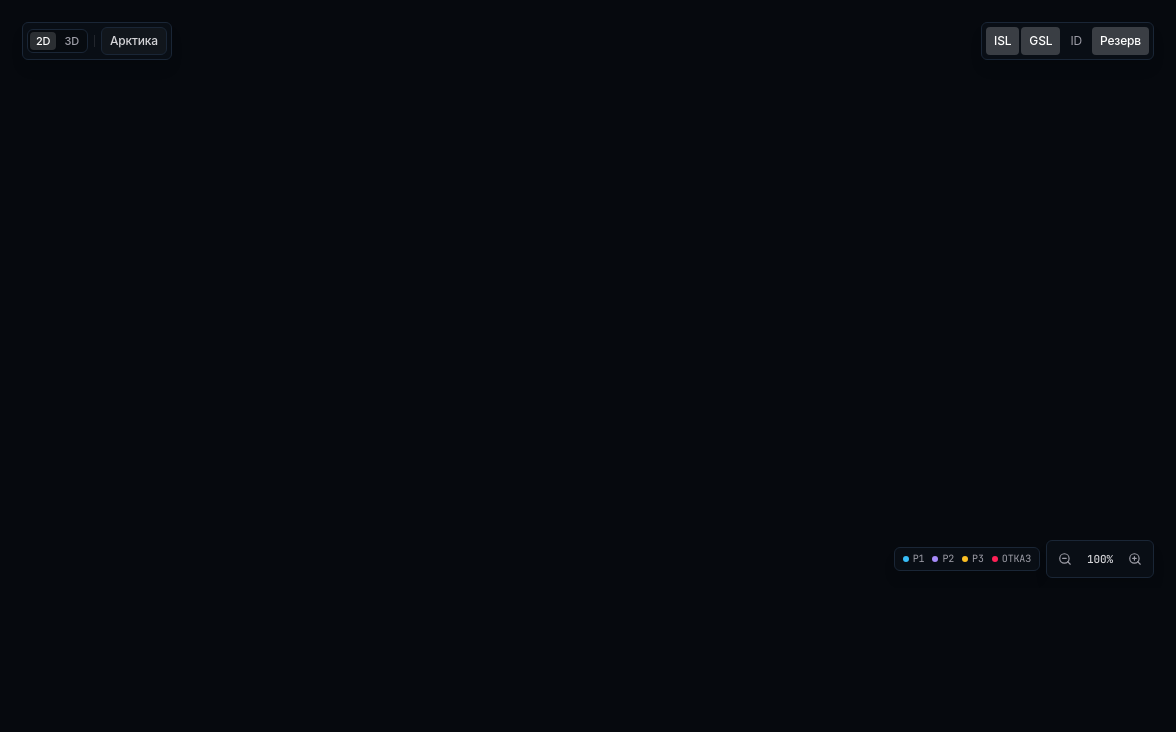
NetworkMap Component › handles zoom in, zoom out, and reset view controls
Expected: the button "100%" is shown, [1081, 550, 1119, 568]
Zoom in to 115%
Step 1. Click the button titled "Приблизить карту" → (1135, 559), box [1121, 545, 1149, 573]
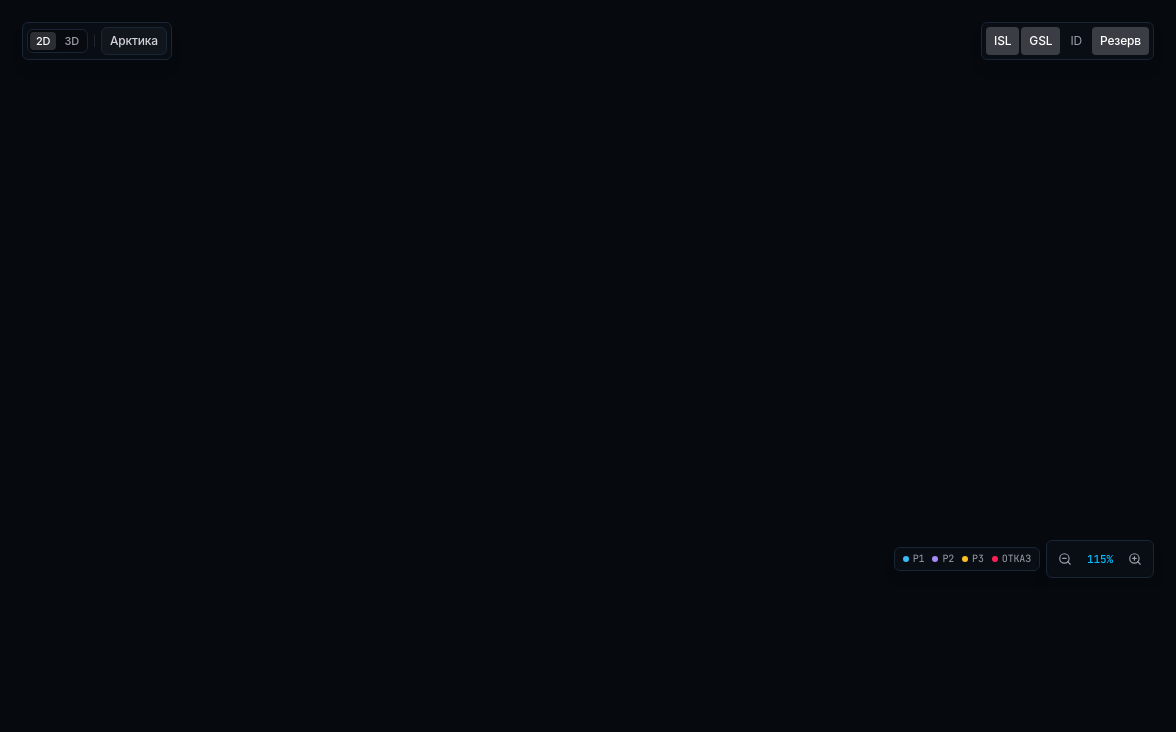
Result: the button "115%" is shown at [1081, 550, 1119, 568]
Zoom out back to 100%
Step 2. Click the button titled "Отдалить карту" → (1065, 559), box [1051, 545, 1079, 573]
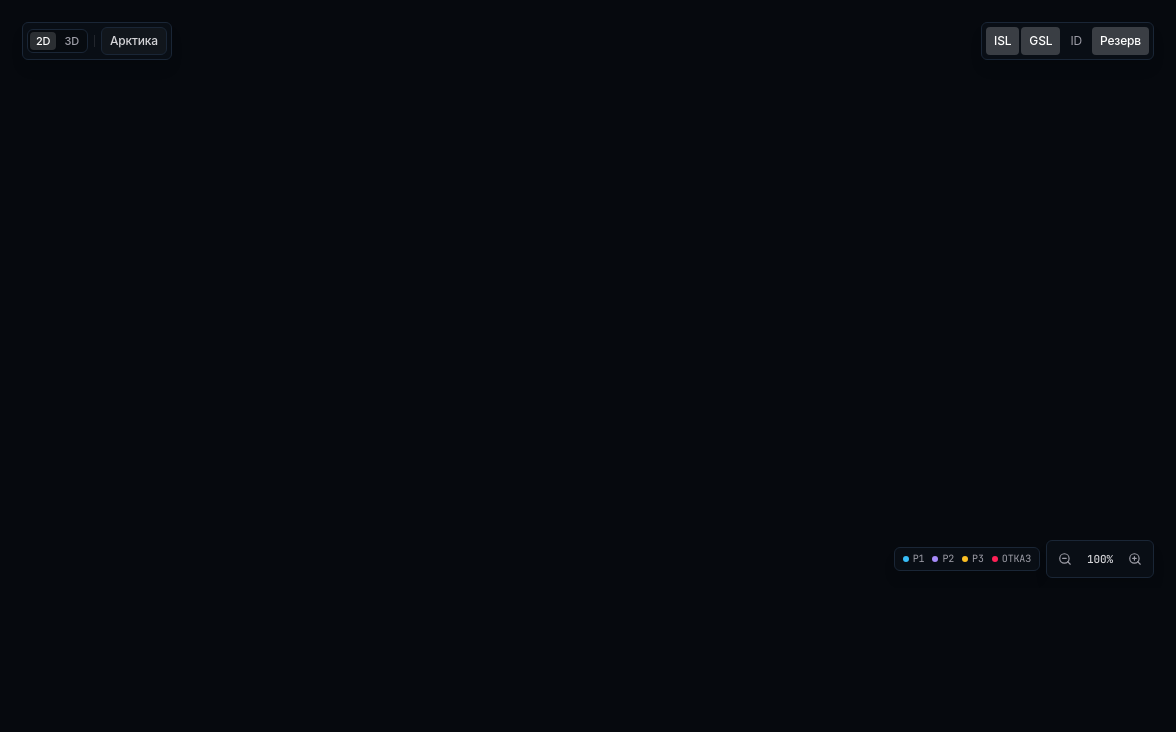
Expected: the button "100%" is shown, [1081, 550, 1119, 568]
Zoom in then reset
Step 3. Click the button titled "Приблизить карту" → (1135, 559), box [1121, 545, 1149, 573]
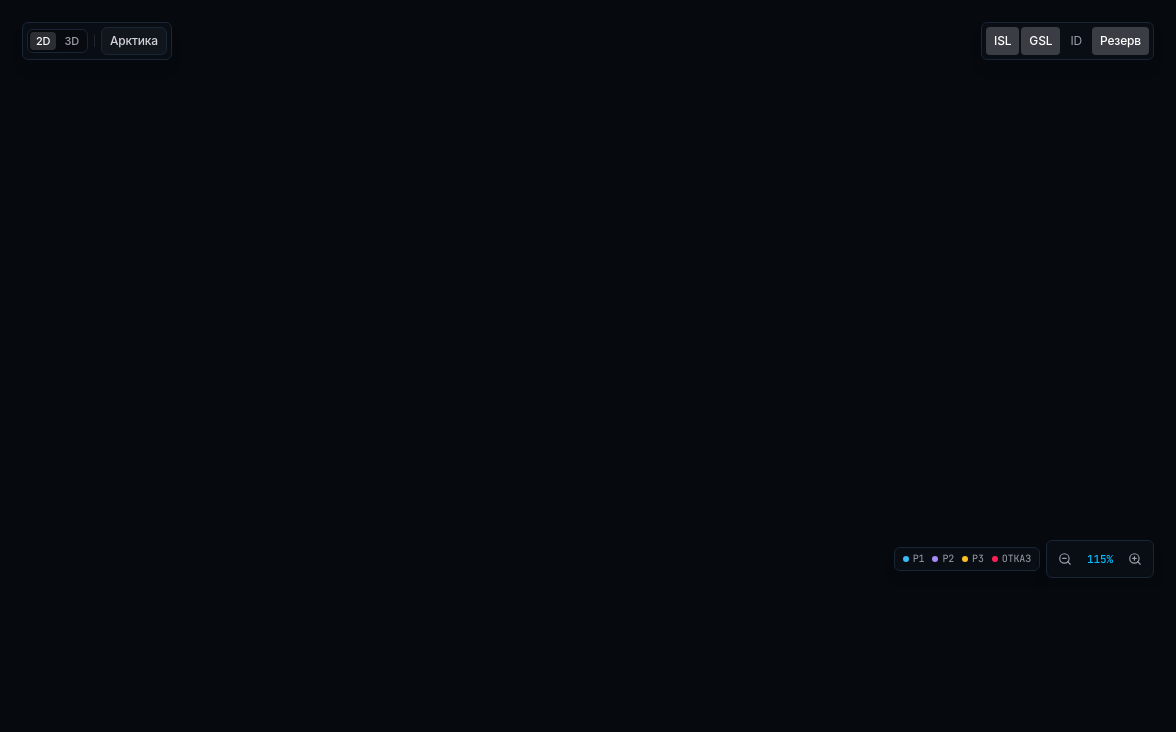
Result: the button "115%" is shown
Step 4. Click the button "115%" → (1100, 559), box [1081, 550, 1119, 568]
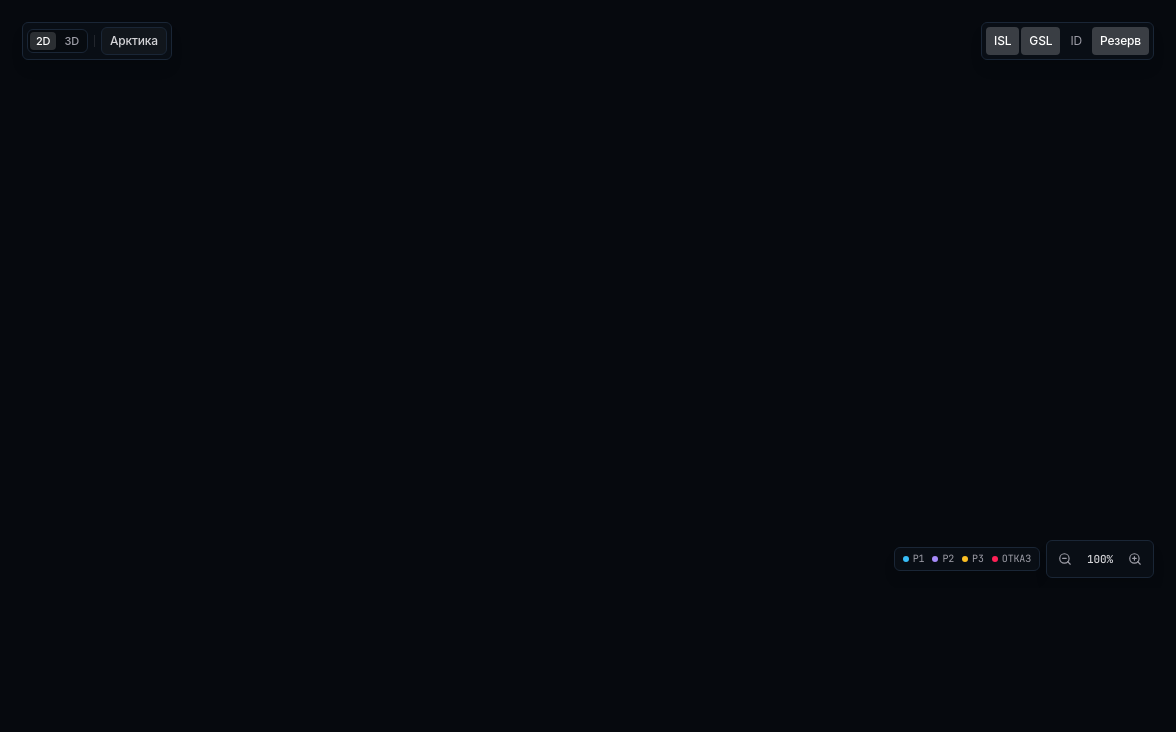
Zoom out in 2D below 100% down to 80% limit
Step 5. Click the button titled "Отдалить карту" → (1065, 559), box [1051, 545, 1079, 573]
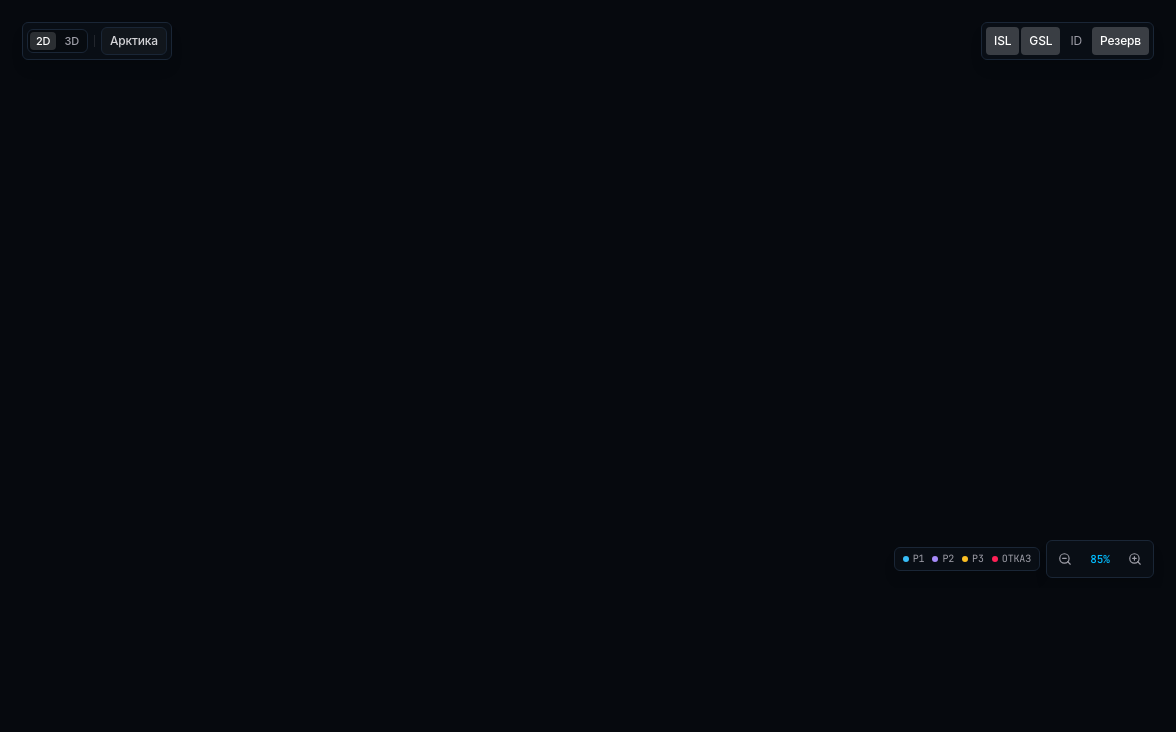
Result: the button "85%" is shown at [1081, 550, 1119, 568]
Step 6. Click the button titled "Отдалить карту" → (1065, 559), box [1051, 545, 1079, 573]
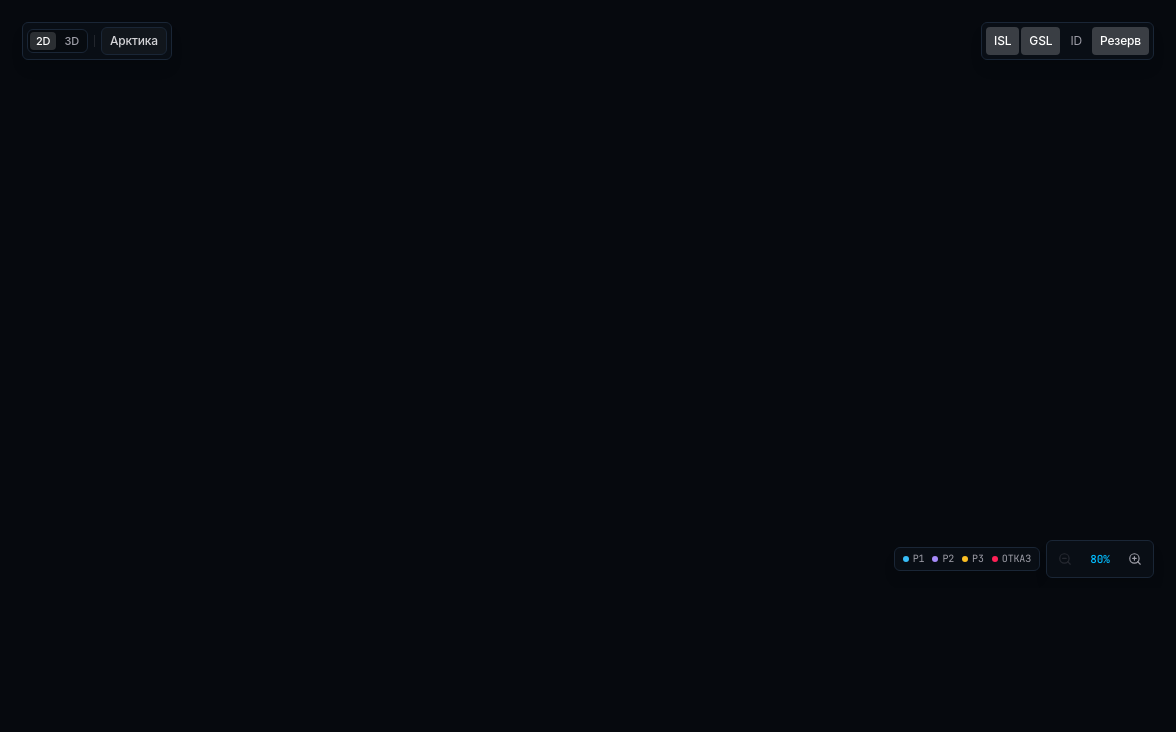
Result: the button "80%" is shown at [1081, 550, 1119, 568]
Result: the button titled "Отдалить карту" is disabled at [1051, 545, 1079, 573]
